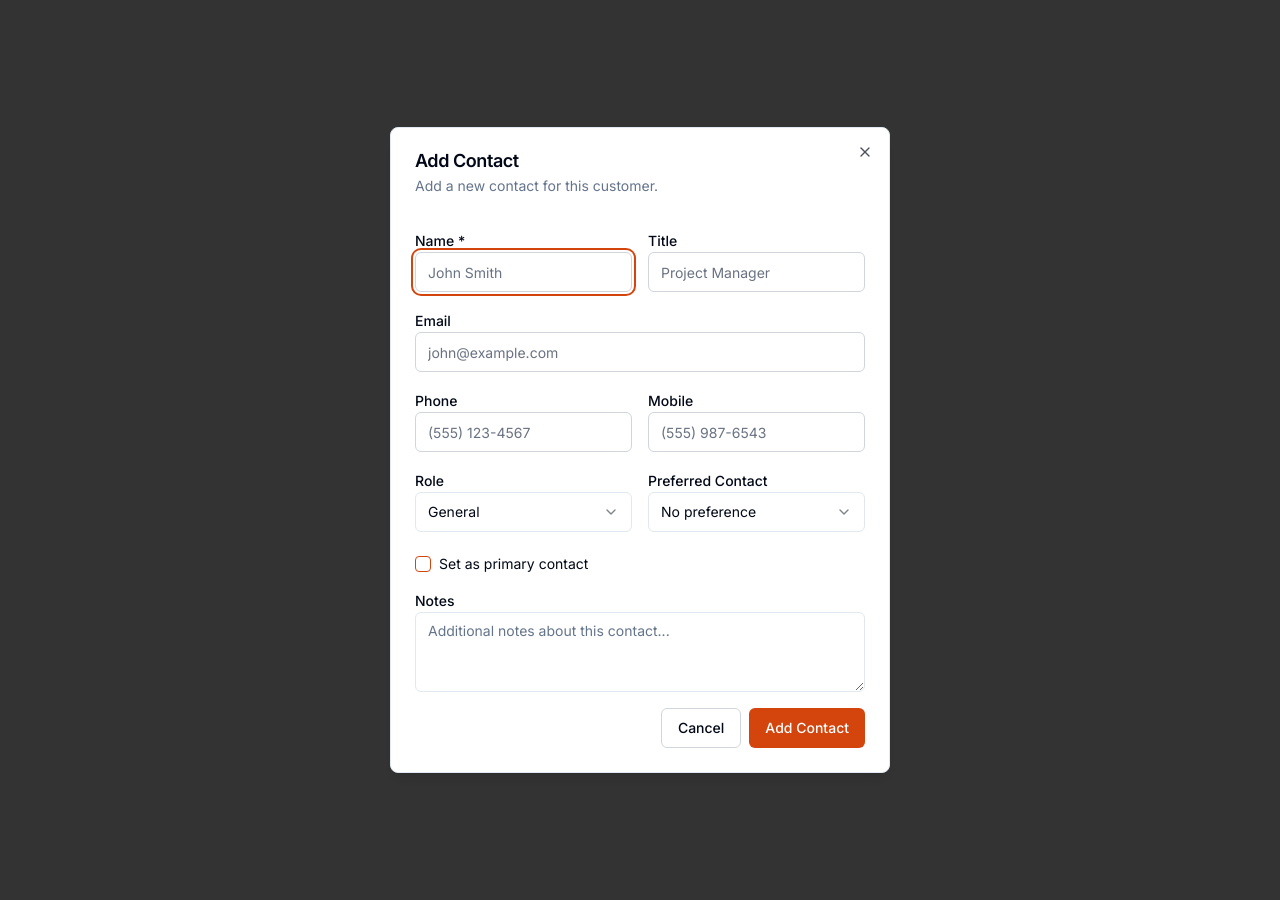
Scenario: ContactDialog › shows error when name is empty on submit
Step 1. Click the button "Add Contact" → (807, 728), box x1=749 y1=708 x2=865 y2=748
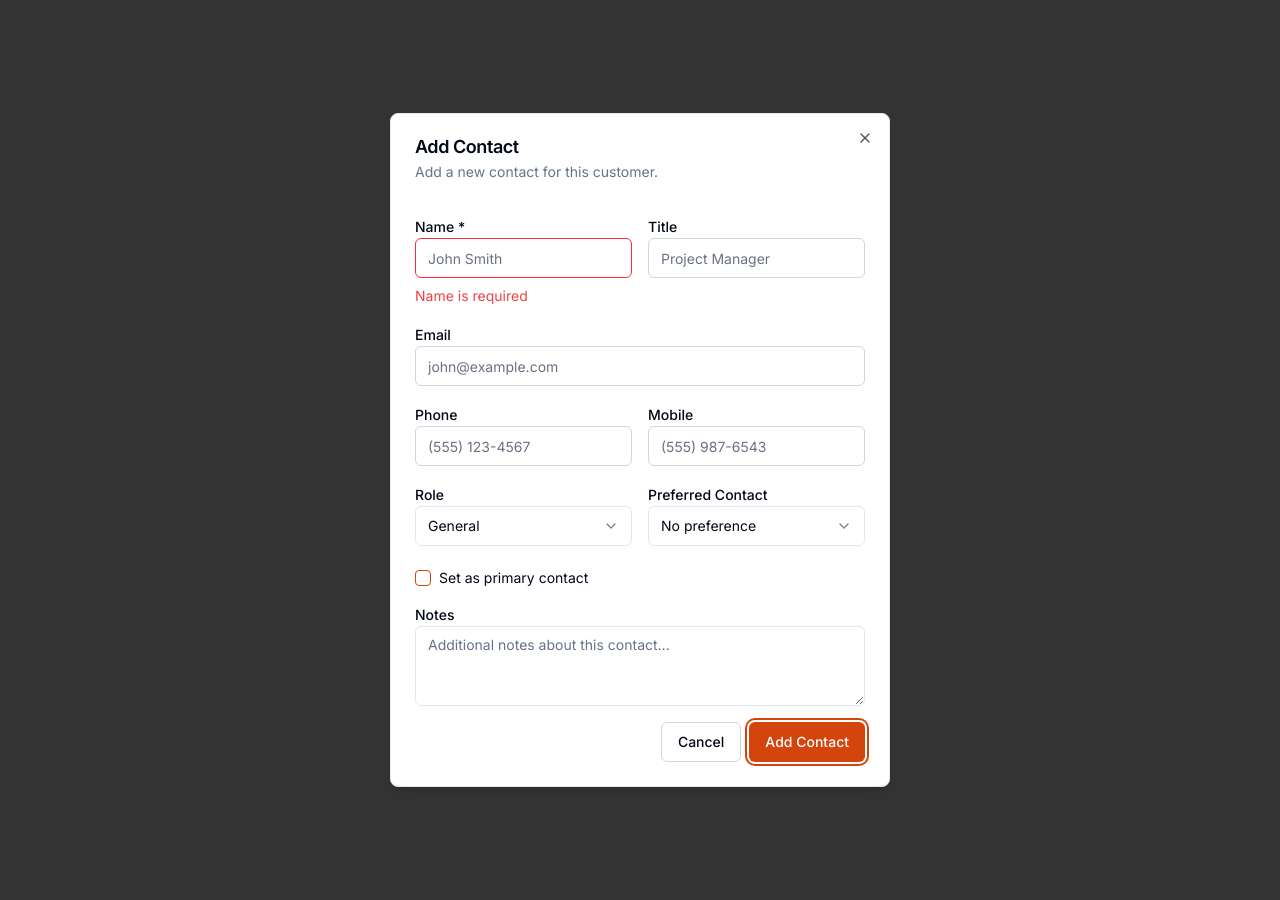
Expected: the text "Name is required" is shown, x1=415 y1=287 x2=528 y2=304
